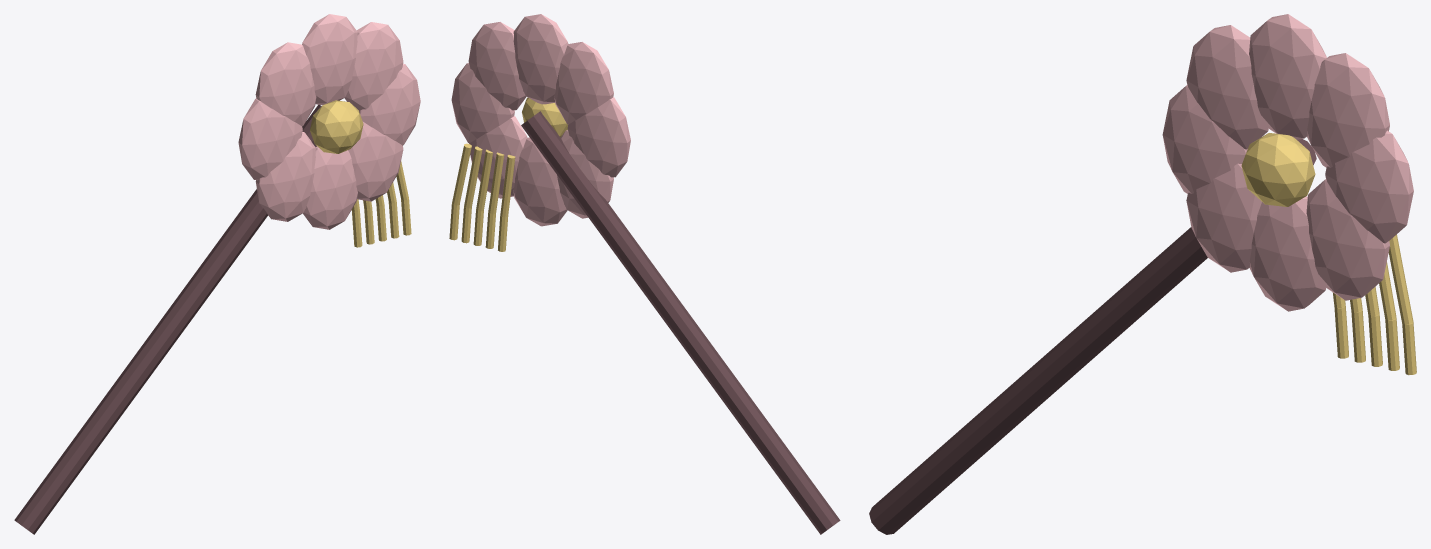
File: wear_kanzashi.glb
3 renders of one model, left to right at view 1: azimuth 30°, elevation 25°; view 2: azimuth 150°, elevation 25°; view 3: azimuth 330°, elevation 25°, orthographic. The views are drawn at different scales.
Parts seen in each view (by area): view 1: Kanzashi lacquer hair stick, Complex gold petal.002, Complex gold petal.003, Complex gold petal.001, Complex gold petal.004, Complex gold petal.005, Complex gold petal.006, Complex gold petal.007, Complex gold petal, Kanzashi flower pearl; view 2: Kanzashi lacquer hair stick, Complex gold petal.002, Complex gold petal.003, Complex gold petal.001, Complex gold petal.004, Complex gold petal.006, Complex gold petal, Complex gold petal.007, Complex gold petal.005, Kanzashi flower pearl, Small dangling chain_00, Small dangling chain_00.004 (+3 smaller); view 3: Kanzashi lacquer hair stick, Complex gold petal.002, Complex gold petal.001, Complex gold petal.003, Complex gold petal, Complex gold petal.007, Complex gold petal.006, Complex gold petal.005, Complex gold petal.004, Kanzashi flower pearl, Small dangling chain_00.004.
Boxes of the visible parts, bbox=[...] form: Kanzashi lacquer hair stick: bbox=[14, 104, 321, 534]; Complex gold petal.002: bbox=[302, 14, 357, 105]; Complex gold petal.003: bbox=[255, 42, 316, 126]; Complex gold petal.001: bbox=[344, 22, 403, 111]; Complex gold petal.004: bbox=[238, 98, 302, 180]; Complex gold petal.005: bbox=[255, 132, 315, 221]; Complex gold petal.006: bbox=[303, 146, 357, 229]; Complex gold petal.007: bbox=[348, 122, 403, 201]; Complex gold petal: bbox=[359, 63, 420, 145]; Kanzashi flower pearl: bbox=[310, 100, 363, 153]; Kanzashi lacquer hair stick: bbox=[521, 111, 840, 534]; Complex gold petal.002: bbox=[513, 14, 568, 104]; Complex gold petal.003: bbox=[554, 42, 613, 124]; Complex gold petal.001: bbox=[468, 22, 526, 110]; Complex gold petal.004: bbox=[567, 97, 630, 177]; Complex gold petal.006: bbox=[513, 137, 567, 226]; Complex gold petal: bbox=[451, 63, 514, 143]; Complex gold petal.007: bbox=[469, 116, 527, 198]; Complex gold petal.005: bbox=[557, 130, 613, 218]; Kanzashi flower pearl: bbox=[522, 97, 567, 137]; Small dangling chain_00: bbox=[500, 155, 515, 217]; Small dangling chain_00.004: bbox=[452, 143, 471, 205]; Kanzashi lacquer hair stick: bbox=[869, 139, 1316, 534]; Complex gold petal.002: bbox=[1249, 14, 1326, 139]; Complex gold petal.001: bbox=[1307, 53, 1389, 167]; Complex gold petal.003: bbox=[1186, 25, 1268, 149]; Complex gold petal: bbox=[1325, 130, 1413, 243]; Complex gold petal.007: bbox=[1306, 179, 1389, 300]; Complex gold petal.006: bbox=[1249, 196, 1325, 311]; Complex gold petal.005: bbox=[1186, 163, 1261, 272]; Complex gold petal.004: bbox=[1162, 85, 1247, 193]; Kanzashi flower pearl: bbox=[1241, 133, 1315, 206]; Small dangling chain_00.004: bbox=[1388, 234, 1413, 324].
Size of the model in its own units: 1.79 by 1.95 by 0.2347.
